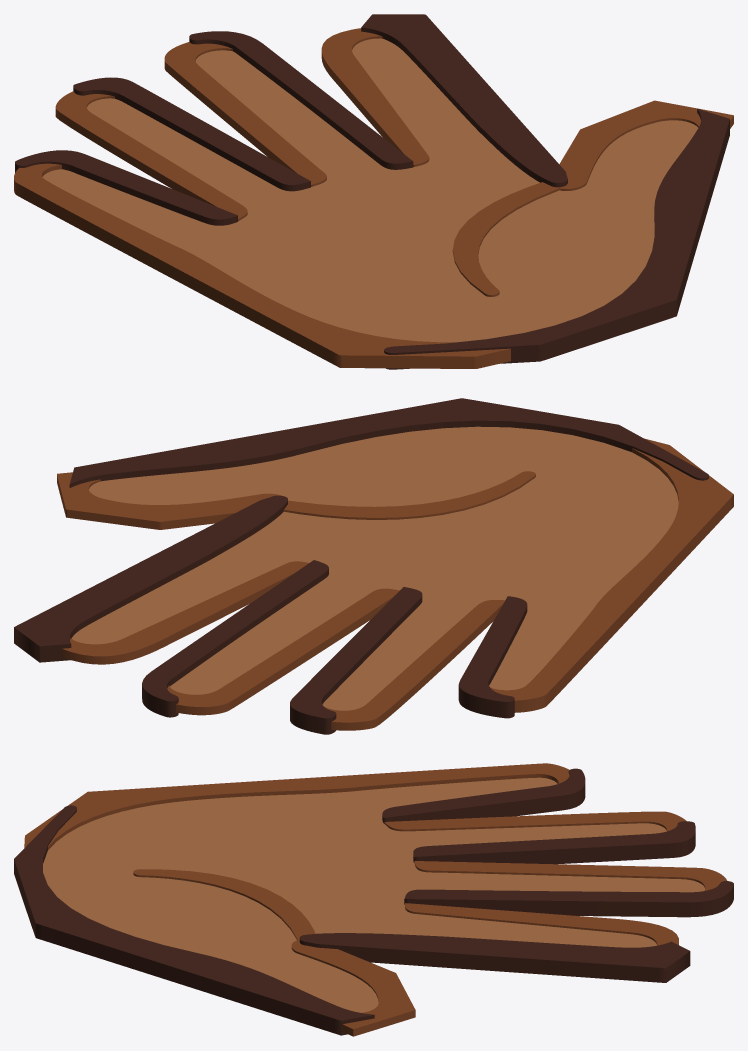
The model's file is emoji_u1f590_1f3fe.glb.
3 renders of one model, top to bottom at view 1: azimuth 30°, elevation 25°; view 2: azimuth 150°, elevation 25°; view 3: azimuth 270°, elevation 25°, orthographic. The views are drawn at different scales.
Parts seen in each view (by area): view 1: emoji_u1f590_1f3fe; view 2: emoji_u1f590_1f3fe; view 3: emoji_u1f590_1f3fe.
Part boxes in pixels (bbox=[...]): emoji_u1f590_1f3fe: bbox=[14, 14, 733, 369]; emoji_u1f590_1f3fe: bbox=[14, 398, 733, 734]; emoji_u1f590_1f3fe: bbox=[14, 763, 733, 1036].
Size of the model in its own units: 0.0306 by 0.0008 by 0.0352.
